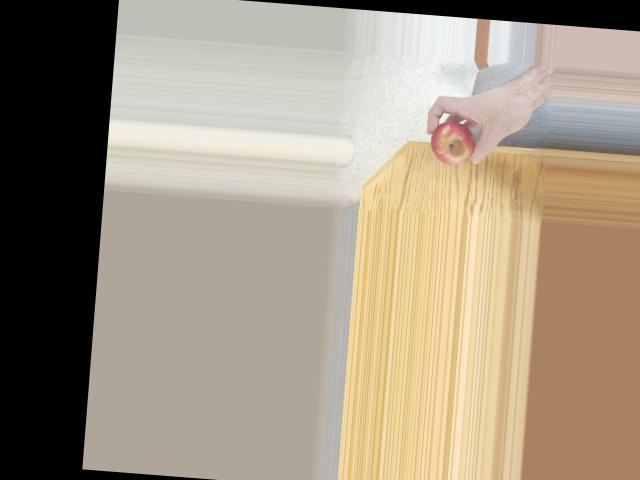apple: (428, 123, 478, 167)
